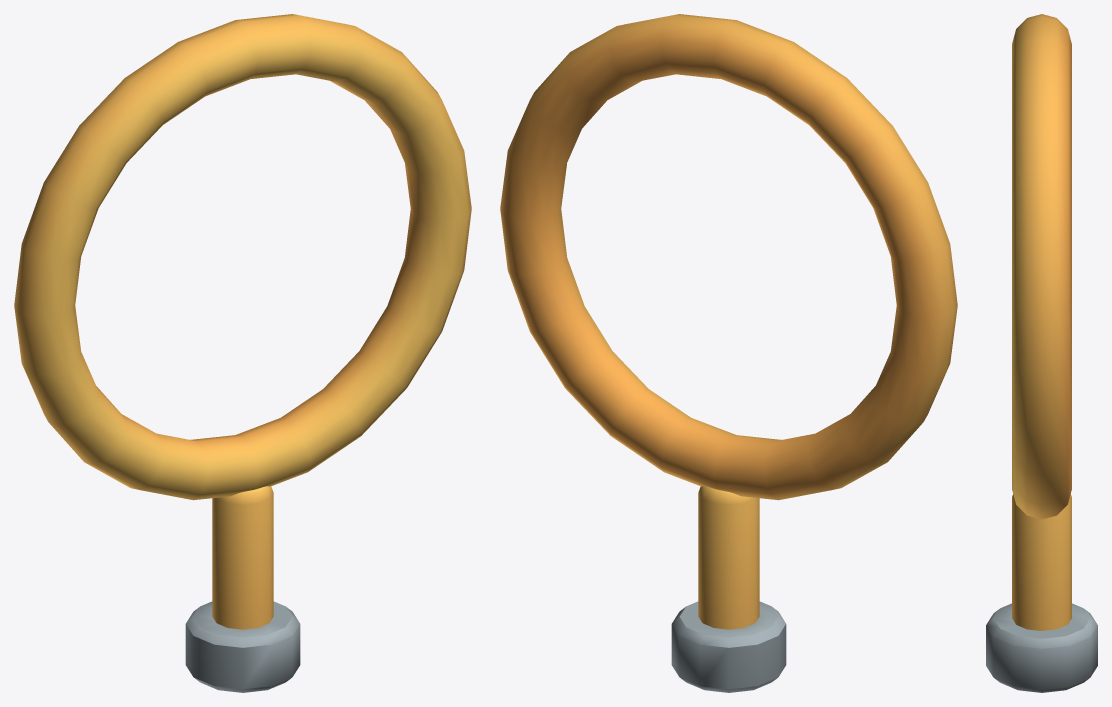
Rendered from hoop_yellow.glb.
3 renders of one model, left to right at view 1: azimuth 30°, elevation 25°; view 2: azimuth 150°, elevation 25°; view 3: azimuth 270°, elevation 25°, orthographic. The views are drawn at different scales.
Visible parts, largest first — view 1: hoop_yellow; view 2: hoop_yellow; view 3: hoop_yellow.
Boxes of the visible parts, <box> form: hoop_yellow: <box>14,14,471,692</box>; hoop_yellow: <box>500,14,957,692</box>; hoop_yellow: <box>986,14,1097,692</box>.
Bounding box in the file's own units: 3.4 × 4.7 × 0.75.
1 material, 1 textured.
